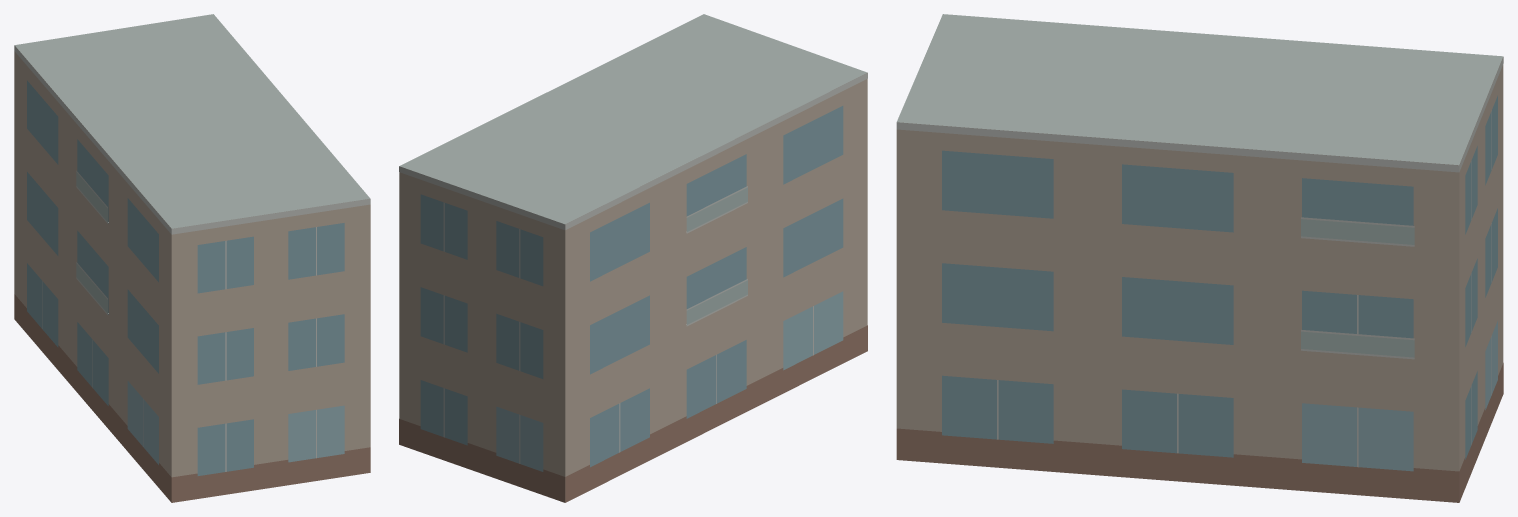
The model's file is survey-upis-32946030.glb.
3 renders of one model, left to right at view 1: azimuth 30°, elevation 25°; view 2: azimuth 150°, elevation 25°; view 3: azimuth 270°, elevation 25°, orthographic. The views are drawn at different scales.
Parts seen in each view (by area): view 1: survey-upis-32946030.tmp; view 2: survey-upis-32946030.tmp; view 3: survey-upis-32946030.tmp.
Part boxes in pixels (x1=…): survey-upis-32946030.tmp: x1=14, y1=14, x2=370, y2=502; survey-upis-32946030.tmp: x1=399, y1=14, x2=867, y2=502; survey-upis-32946030.tmp: x1=896, y1=14, x2=1503, y2=502.
Size of the model in its own units: 10.96 by 11.4 by 18.58.
